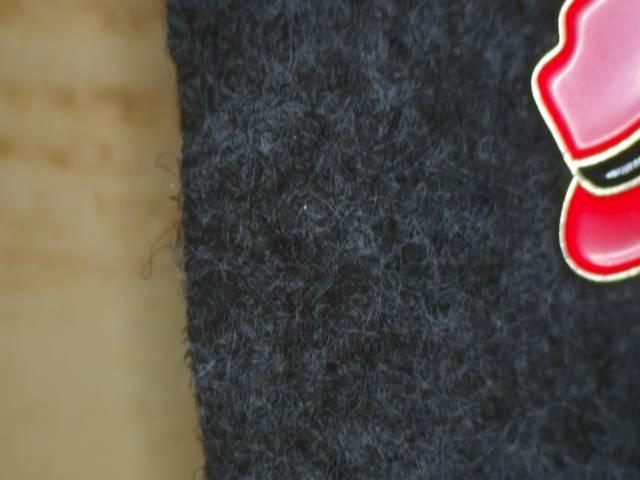Red-Hat: (506, 0, 640, 312)
